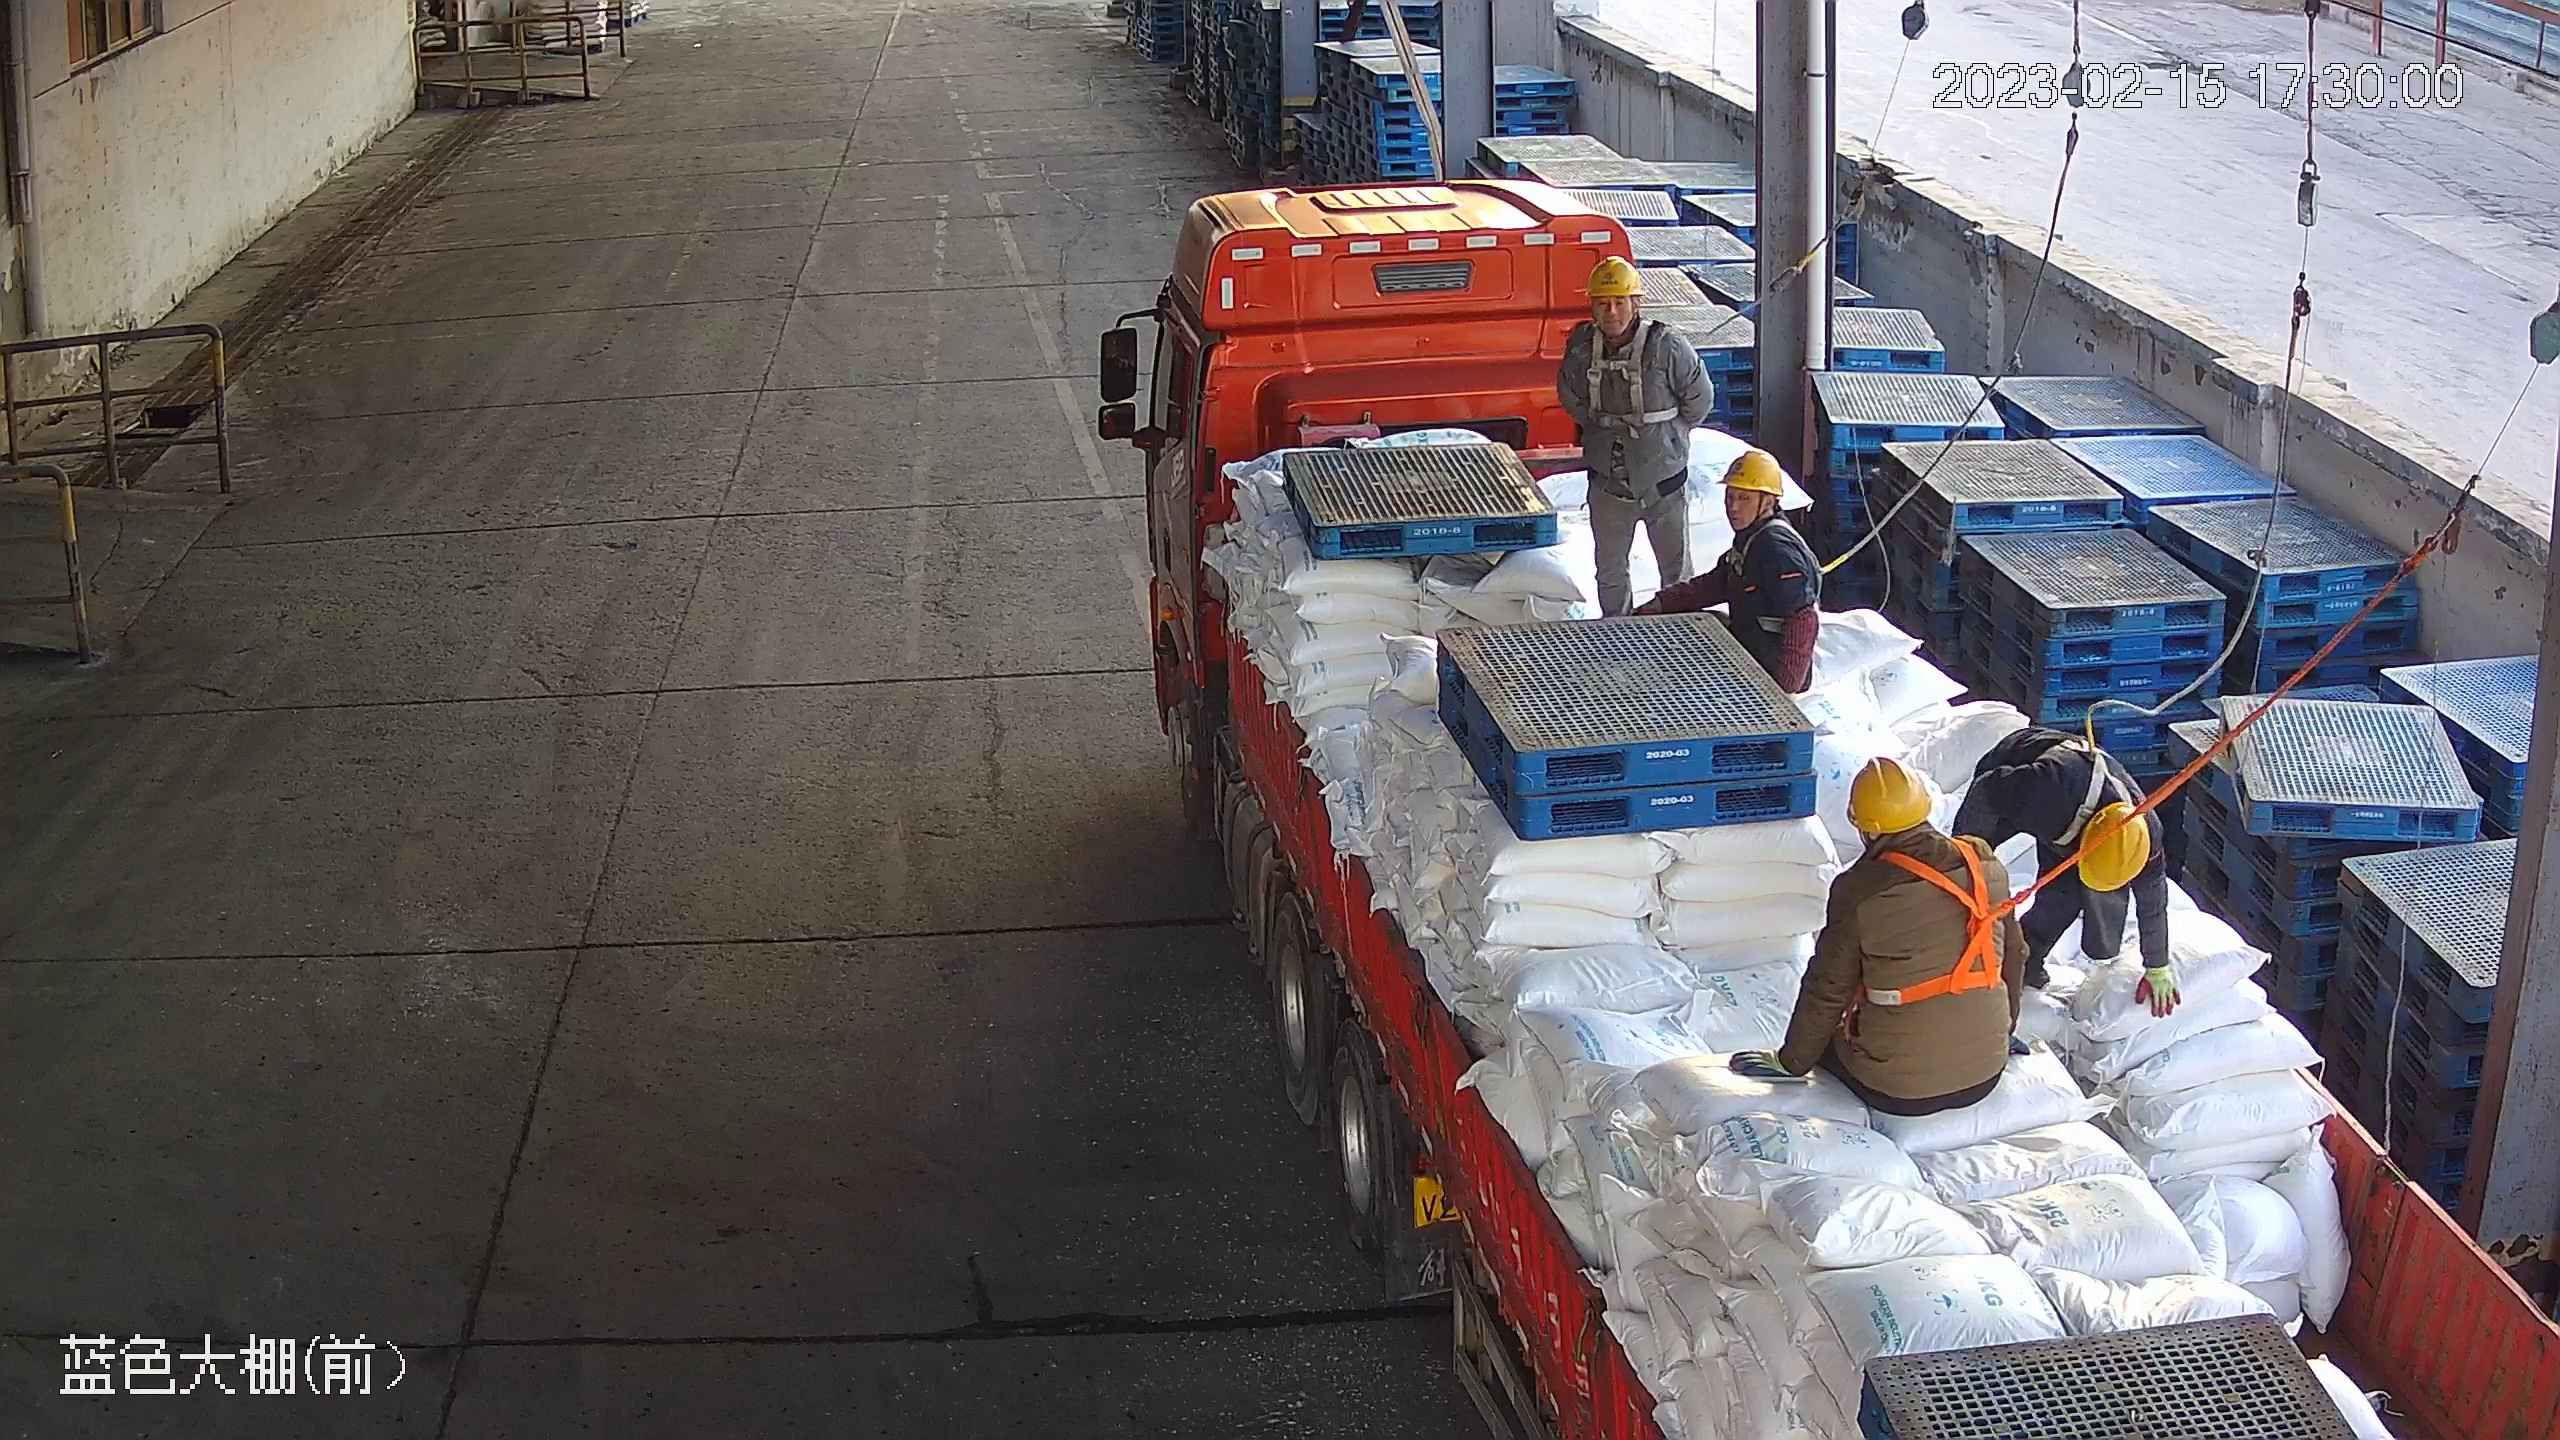belt: (1857, 827, 2053, 1008), (2043, 690, 2159, 852), (1577, 317, 1733, 428), (1719, 515, 1862, 636)
head: (1823, 753, 2012, 899), (2023, 747, 2171, 891), (1551, 254, 1697, 356), (1704, 450, 1822, 572)
helmet: (2074, 798, 2152, 894), (1845, 755, 1934, 835), (1716, 450, 1787, 498), (1584, 253, 1646, 299)
people: (1724, 749, 2032, 1121), (1948, 722, 2184, 1025), (1539, 252, 1718, 619), (1636, 446, 1826, 705)
truck: (1140, 172, 2560, 1440)
